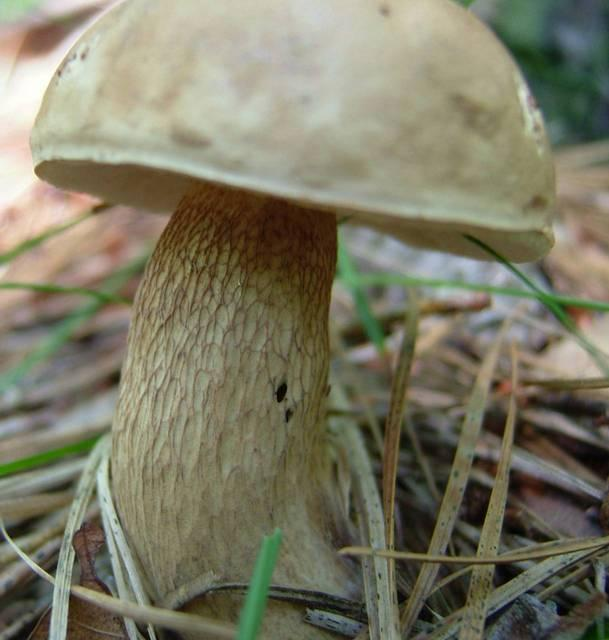Non-edible Mushroom: (27, 0, 558, 639)
